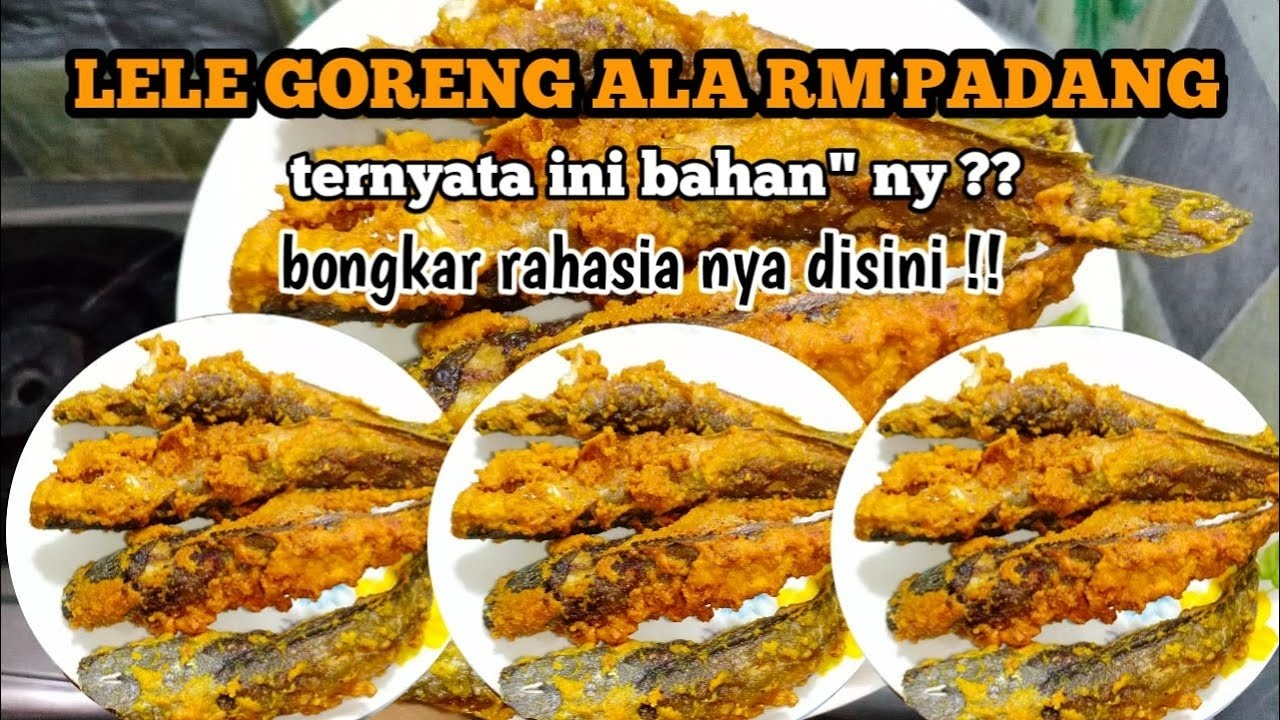pecel_lele: (868, 515, 1264, 639), (845, 426, 1272, 532)
